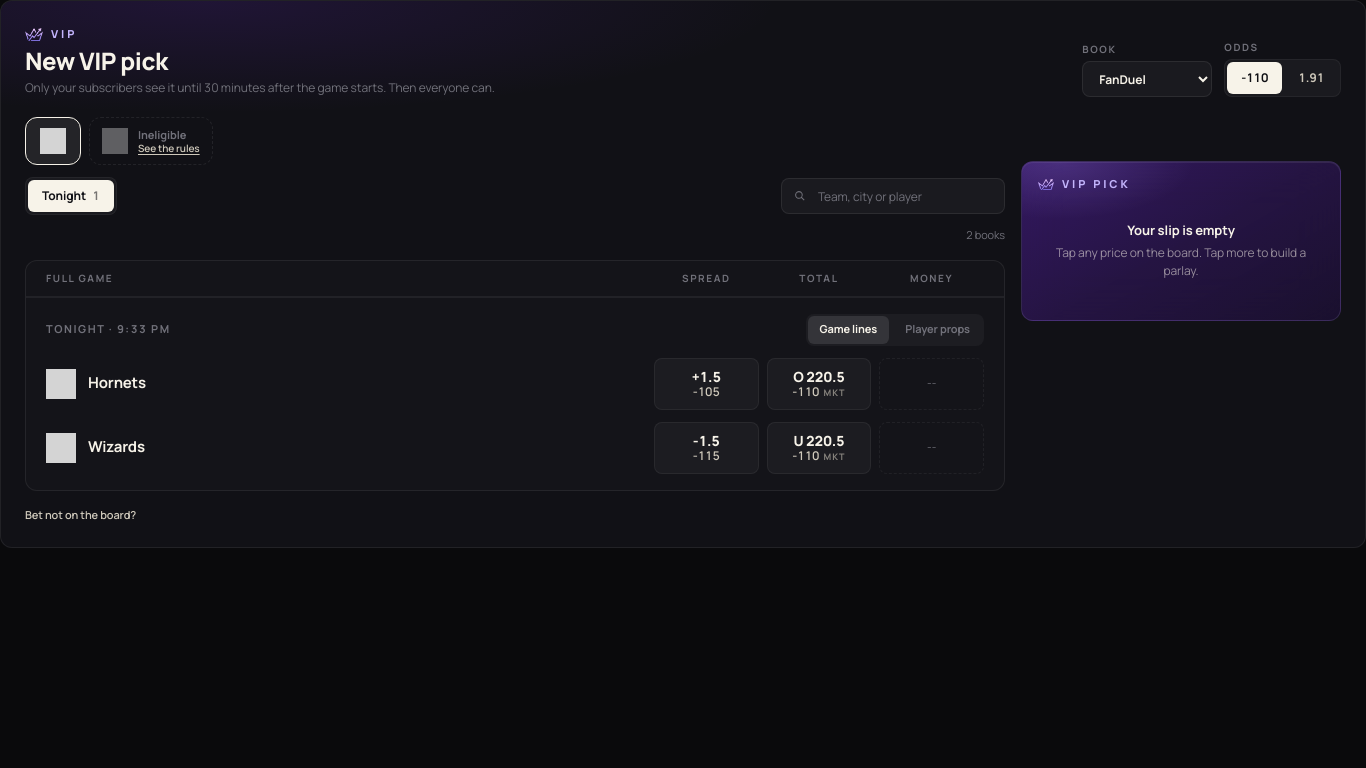
Test: PickBuilder › drops the leg and says so when the game has started
Click the button "+1.5 -105". click: (706, 384)
box: [654,358,759,410]
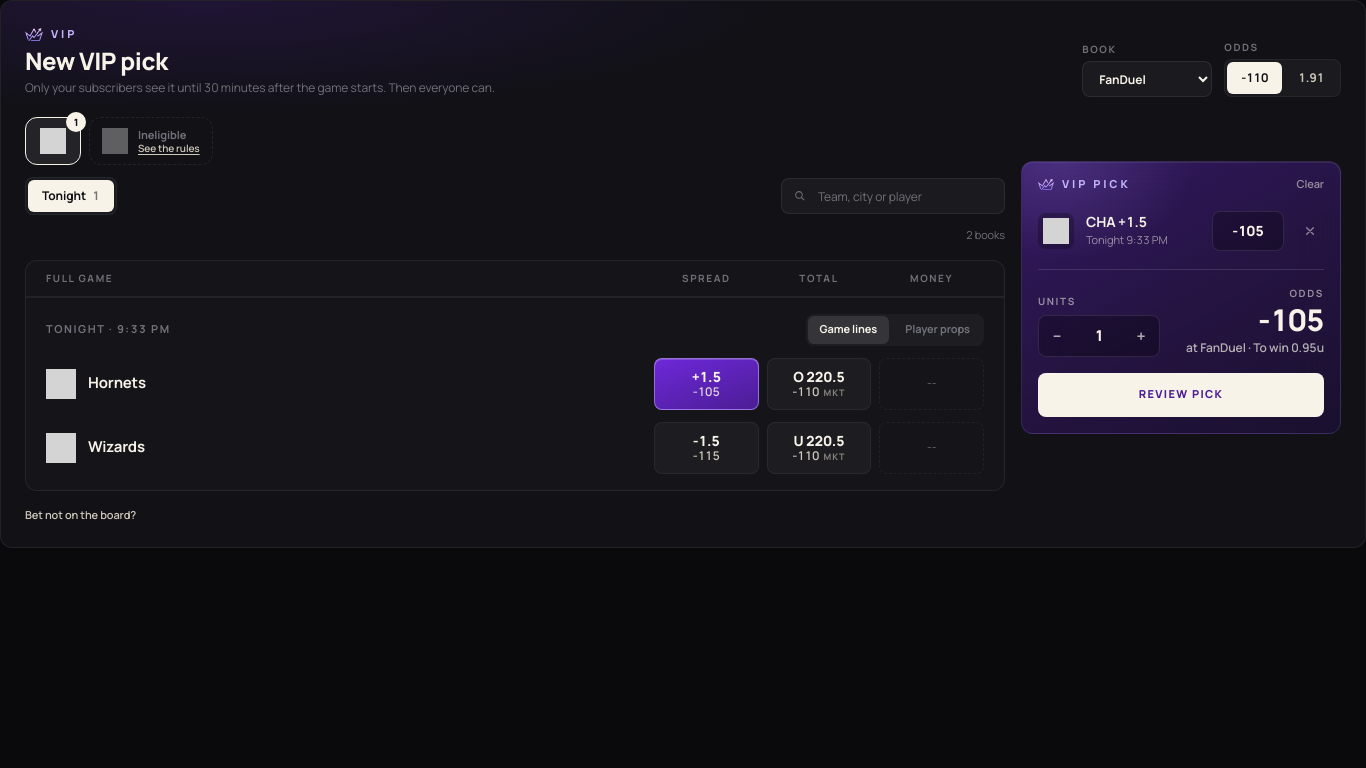
Click the button "Review pick". click: (1181, 394)
box: [1038,372,1324,416]
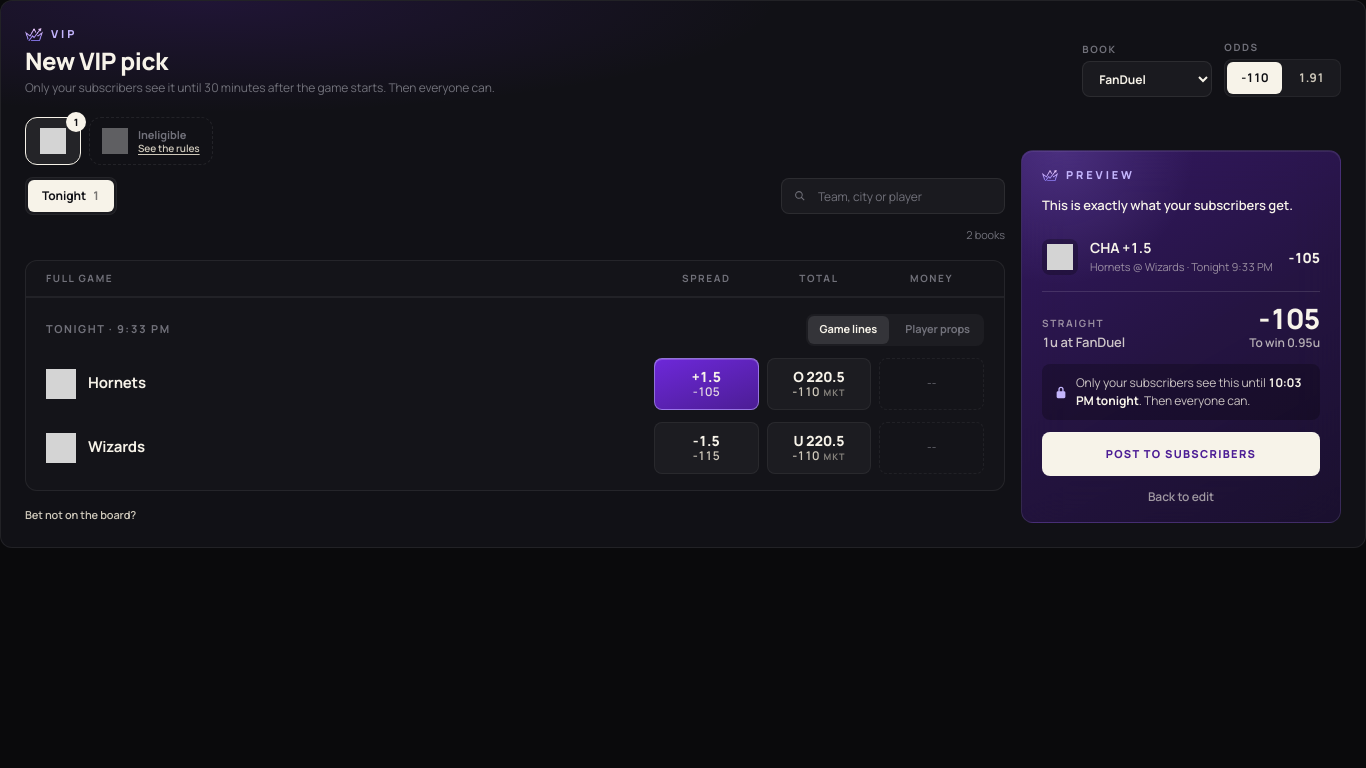
Click the button "Post to subscribers". click: (1181, 454)
box: [1042,432,1320,476]
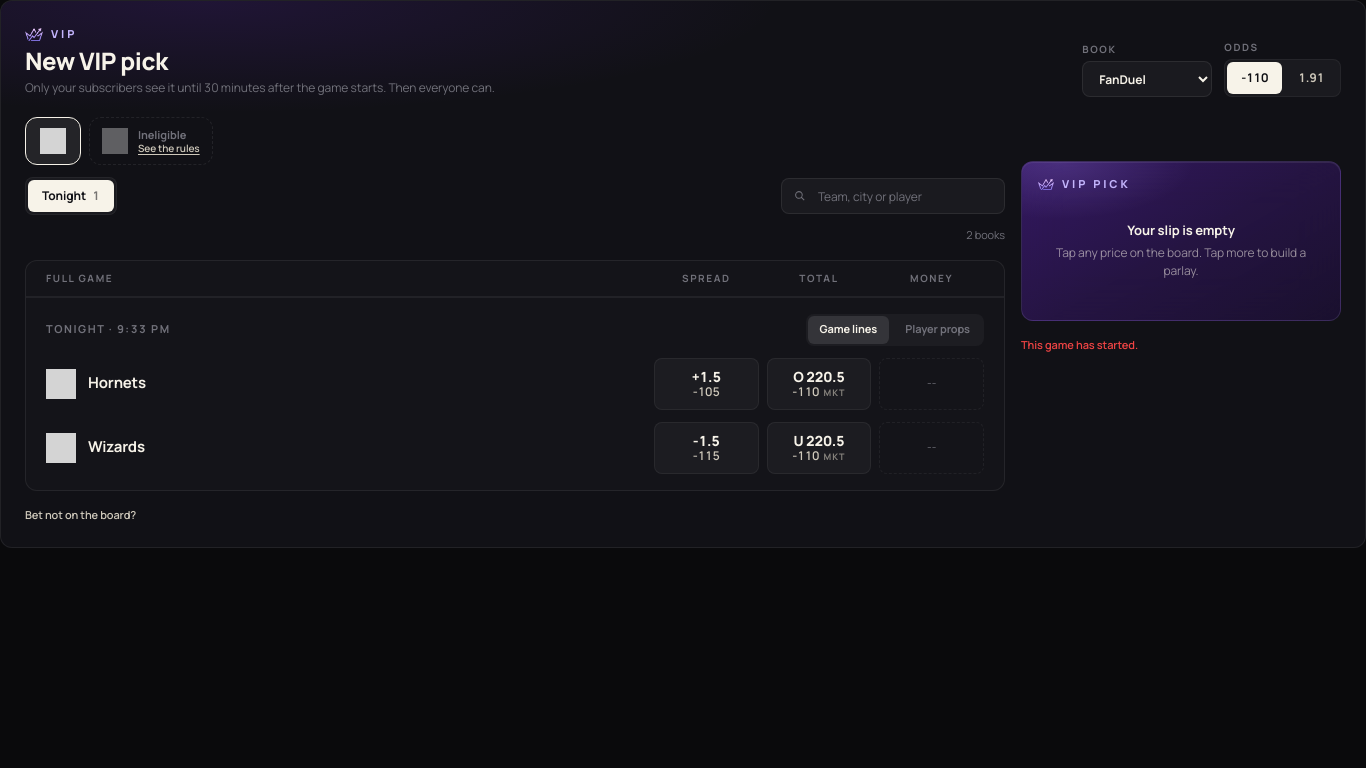
Check: the text "This game has started." is shown, box [1021,337,1138,352]
